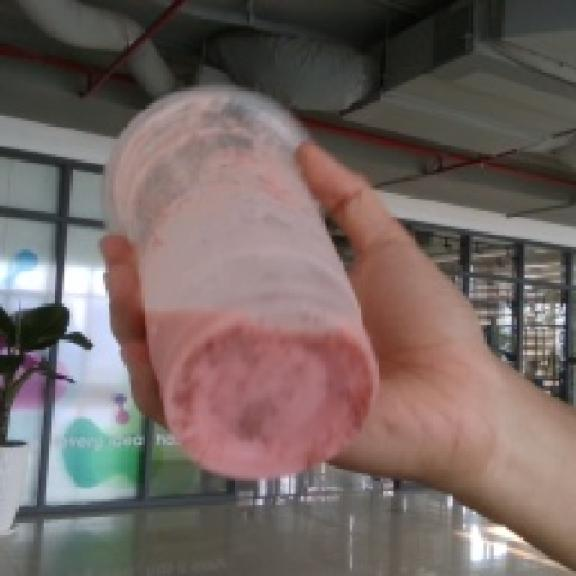Plastik: (106, 85, 378, 478)
